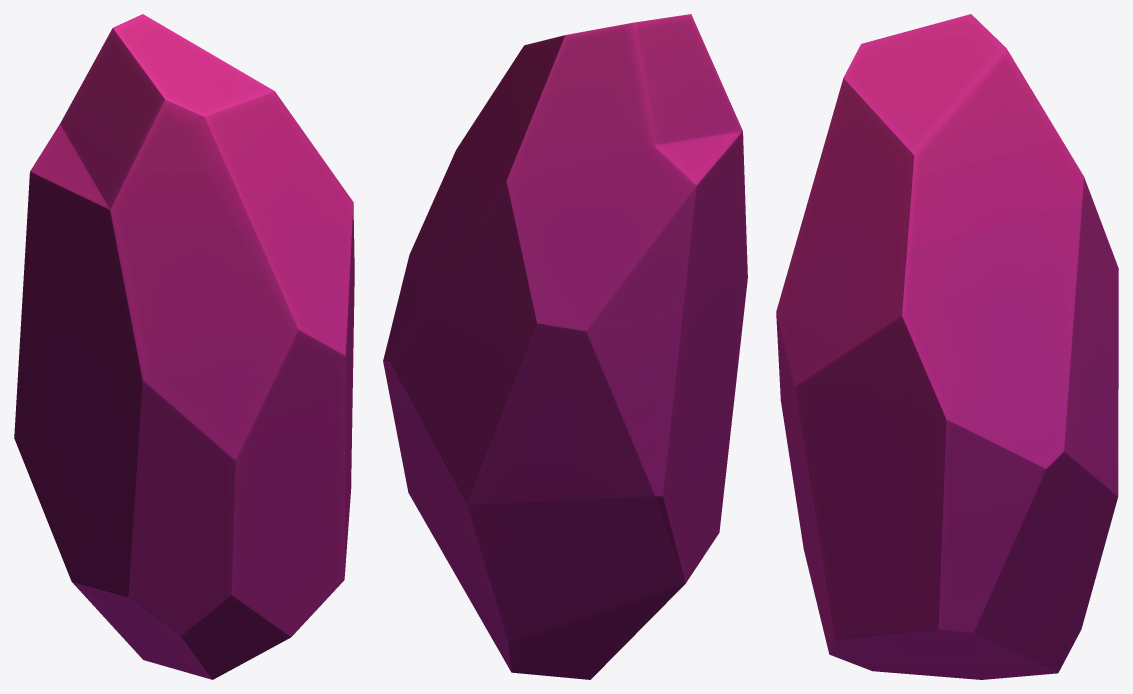
The model's file is Crystal4.fbx.
3 renders of one model, left to right at view 1: azimuth 30°, elevation 25°; view 2: azimuth 150°, elevation 25°; view 3: azimuth 270°, elevation 25°, orthographic. The views are drawn at different scales.
Parts seen in each view (by area): view 1: Crystal4; view 2: Crystal4; view 3: Crystal4.
Boxes of the visible parts, x1,y1,x2,y2 form: Crystal4: (14, 14, 354, 679); Crystal4: (383, 14, 747, 679); Crystal4: (776, 14, 1118, 679).
Size of the model in its own units: 142 by 290 by 139.
1 material, 1 textured.
